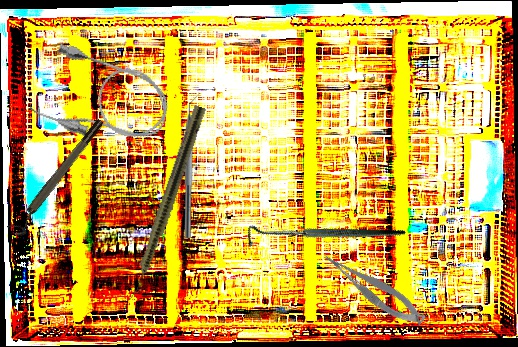Cannula: (26, 39, 179, 159)
Chopper: (184, 92, 201, 238)
Fixation Ring: (6, 116, 111, 240)
Handpiece: (124, 104, 208, 304)
Hook Surgical: (240, 165, 407, 309)
Micro Scissor: (319, 239, 429, 337)
